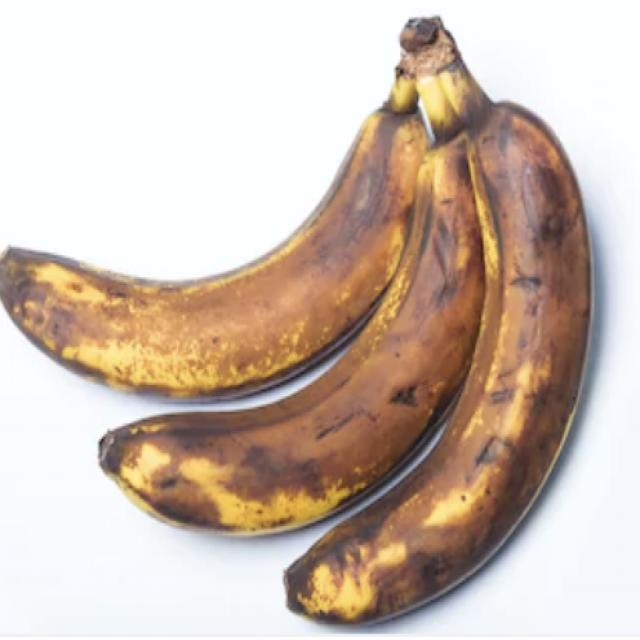rotten-banana: (102, 68, 490, 531), (286, 88, 594, 623), (8, 58, 432, 398)
